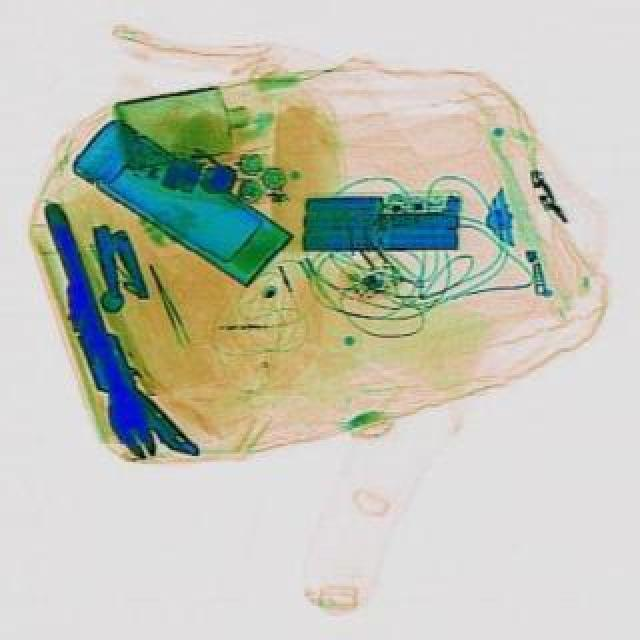scissors: (26, 198, 160, 464)
